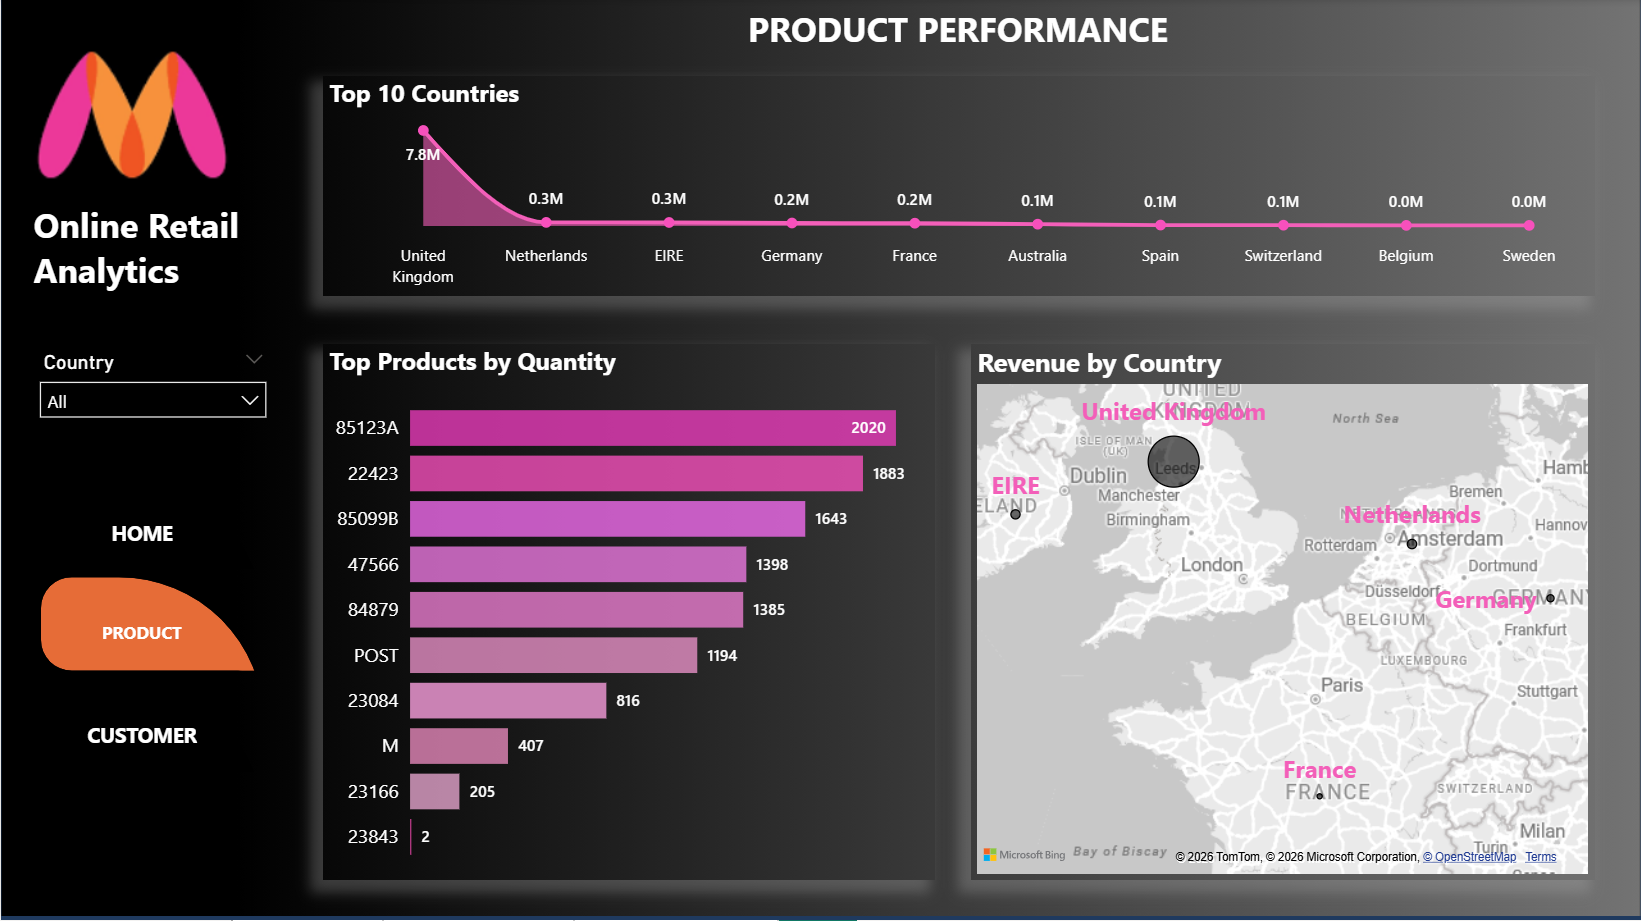

Layout of this report page (visuals, bound fields, positions):
{"tool":"powerbi","page":{"name":"PRODUCT","canvas":[1280,720],"ordinal":1},"visuals":[{"type":"barChart","title":"Top Products by Quantity","fields":{"Category":["MNT.StockCode"],"Y":["MNT.Total Orders"]},"box":[251.5,270.2,477.9,418.6],"z":0},{"type":"map","title":"Revenue by Country","fields":{"Size":["Sum(MNT.Sale)"],"Category":["MNT.Country"]},"box":[757.5,270.2,487.3,418.6],"z":1000},{"type":"slicer","fields":{"Values":["MNT.Country"]},"box":[20.3,270.2,196.8,64],"z":2000},{"type":"textbox","box":[20.3,153.1,196.8,92.1],"z":3000},{"type":"areaChart","title":"Top 10 Countries","fields":{"Category":["MNT.Country"],"Y":["Sum(MNT.Sale)"]},"box":[251.5,60.9,993.3,171.8],"z":4000},{"type":"pageNavigator","box":[31.2,373.3,174.9,231.1],"z":5000},{"type":"textbox","box":[557.6,0,379.5,45.3],"z":6000},{"type":"actionButton","box":[48.4,468.5,131.2,45.3],"z":6001},{"type":"actionButton","box":[48.4,551.3,131.2,45.3],"z":6002},{"type":"actionButton","box":[48.4,390.5,131.2,45.3],"z":6003}]}

Visuals, with their boxes in screenshot pixels (x1, y1, x2, y2), scaled from the page's 1280x720 canvas onto the 1641x921 screenshot:
"Top Products by Quantity" barChart: (322,346,935,881)
"Revenue by Country" map: (971,346,1596,881)
slicer - MNT.Country: (26,346,278,427)
textbox: (26,196,278,314)
"Top 10 Countries" areaChart: (322,78,1596,298)
pageNavigator: (40,478,264,773)
textbox: (715,0,1201,58)
actionButton: (62,599,230,657)
actionButton: (62,705,230,763)
actionButton: (62,500,230,557)
